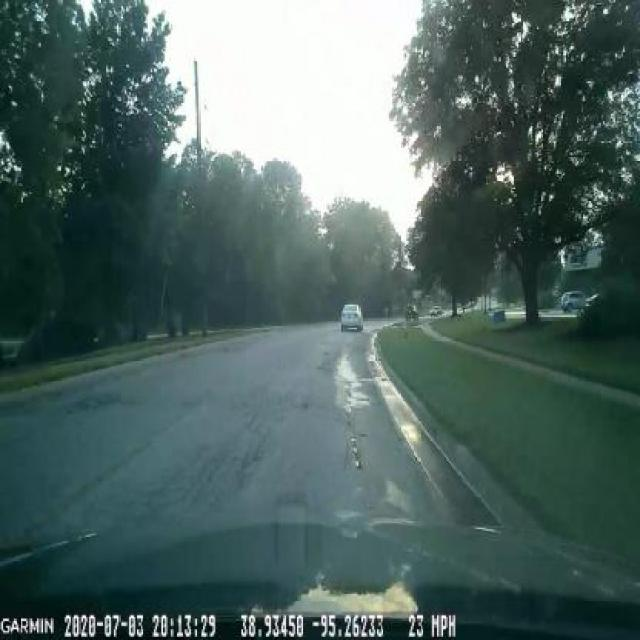Pothole: (329, 356, 368, 421)
